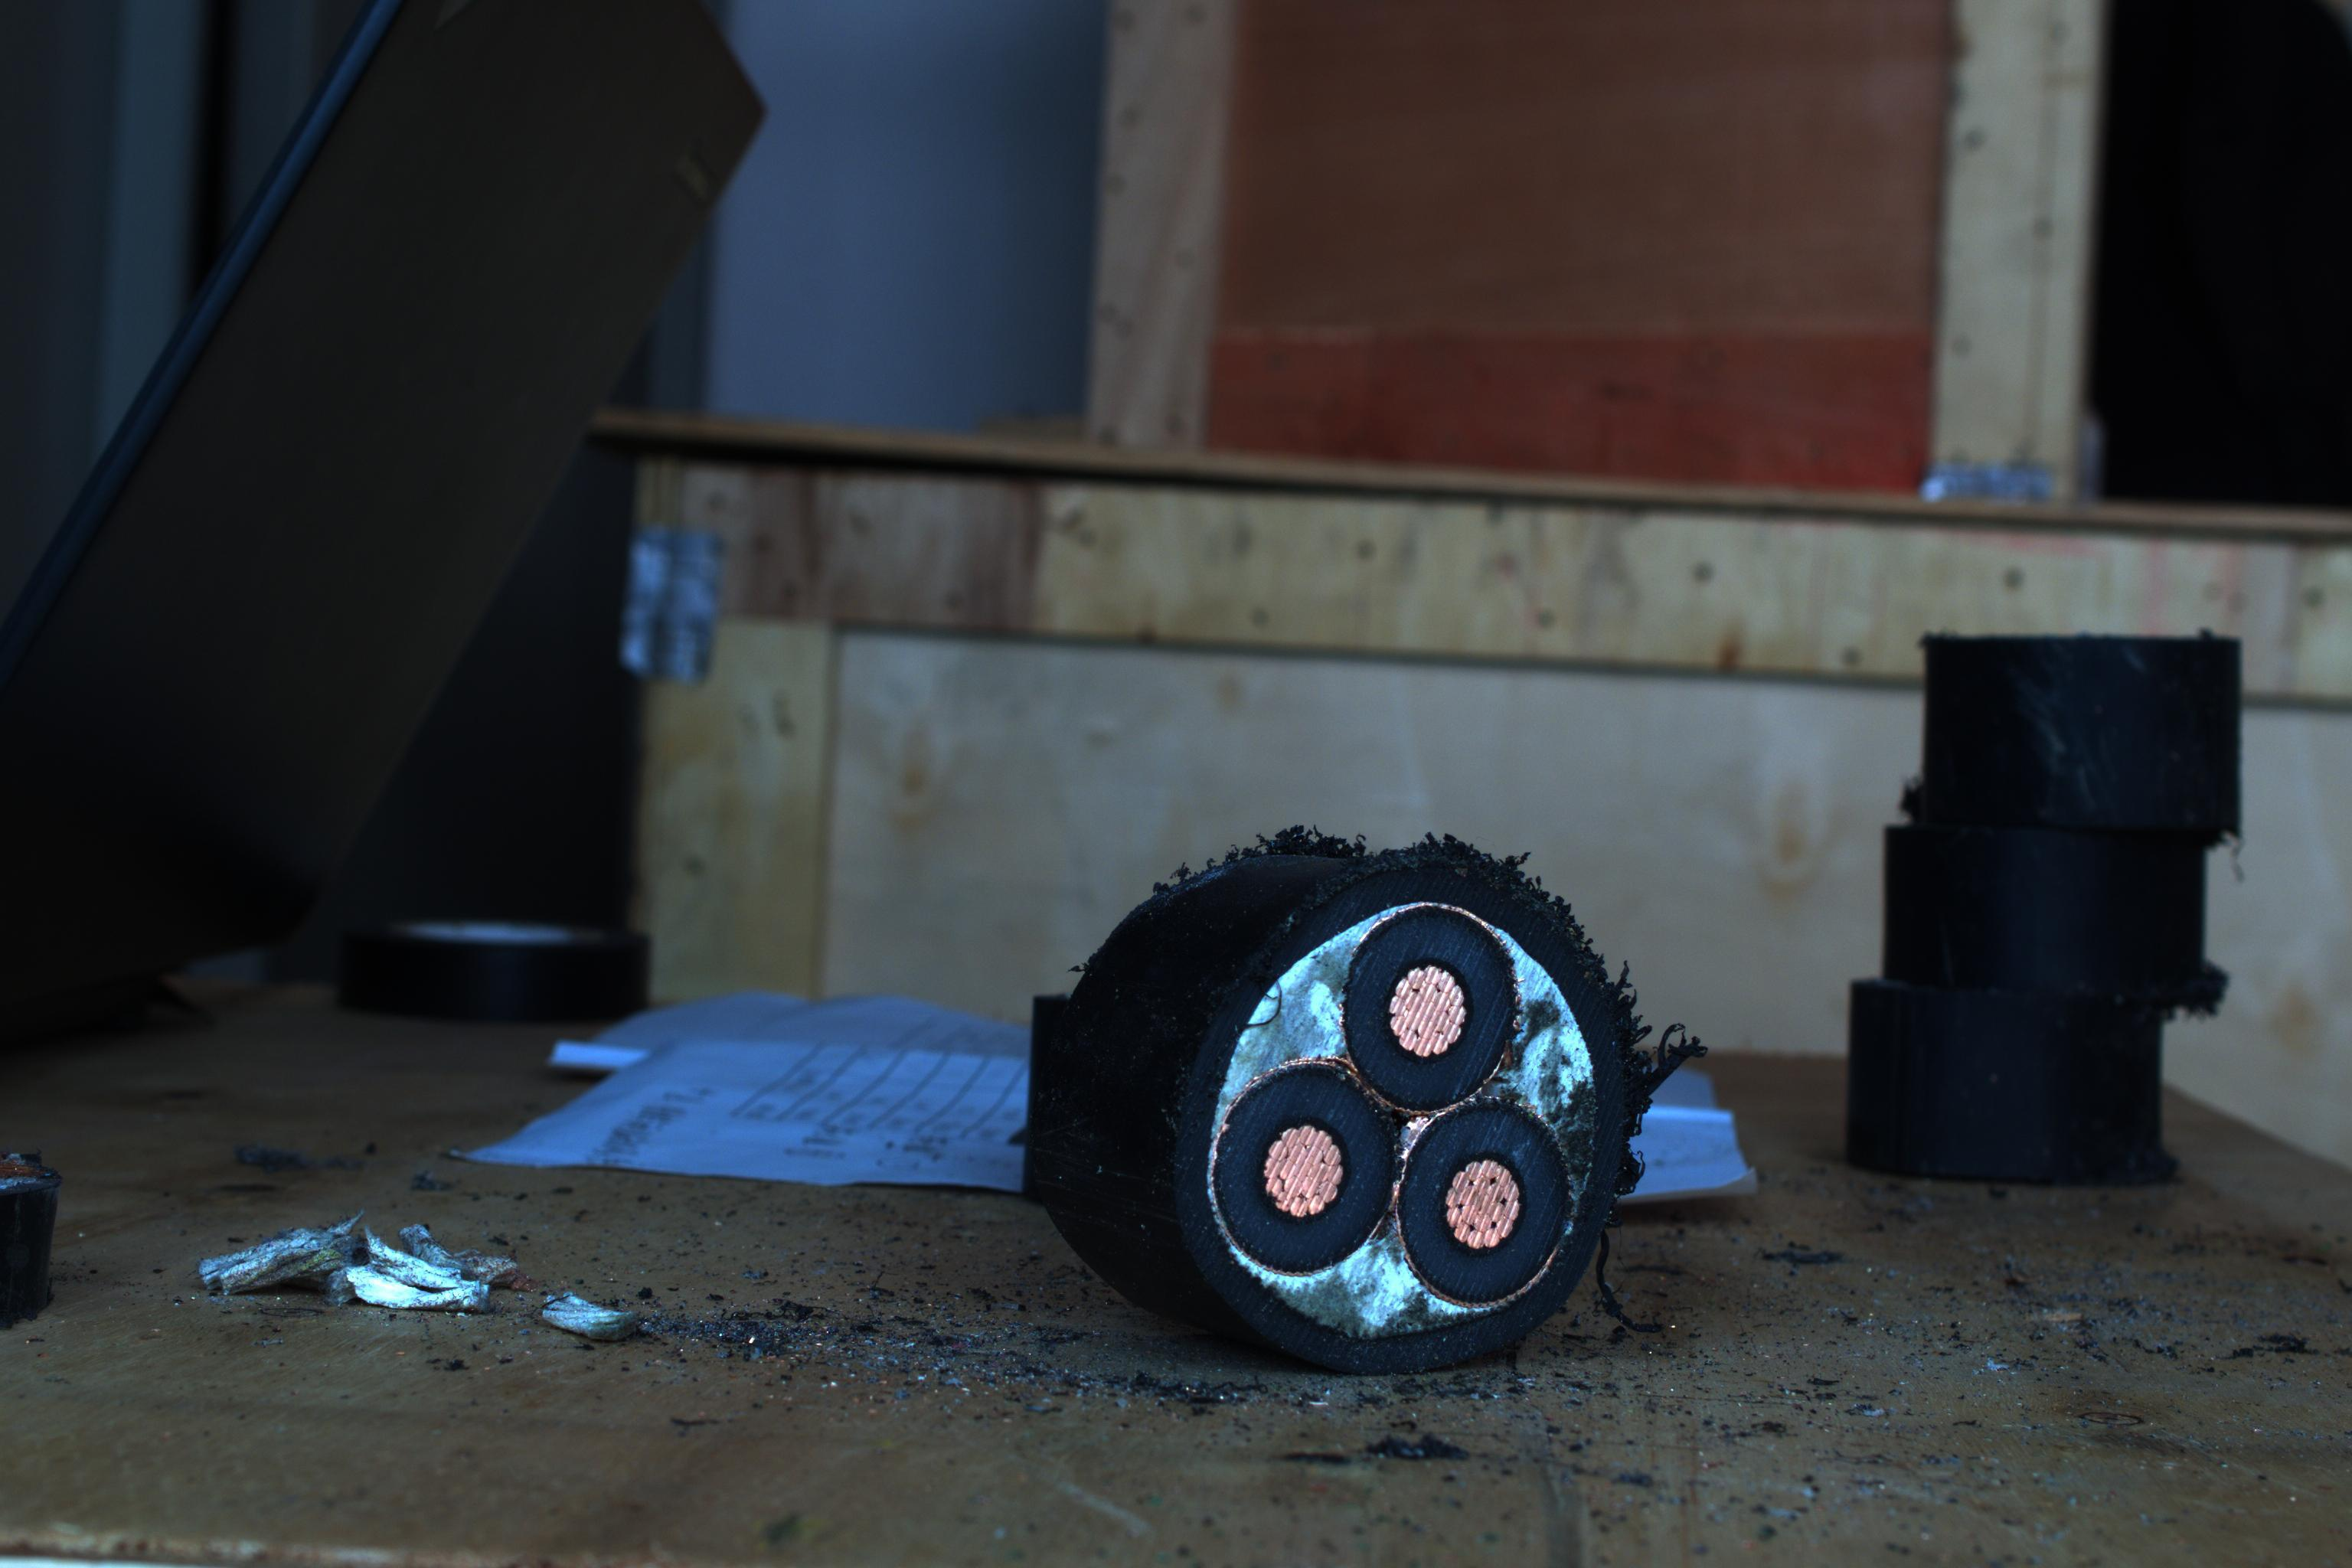YJV_8.7_10kV_3x70: (1157, 863, 1652, 1379)
